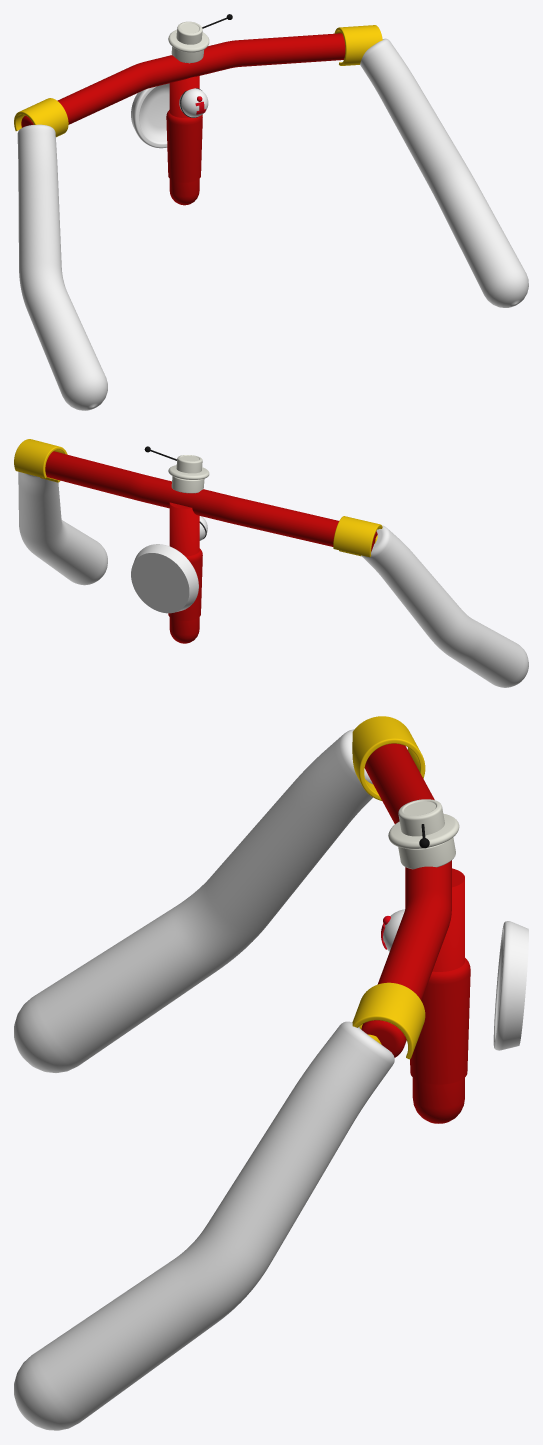
Rendered from bike.glb.
The picture shows the model from 3 angles, top to bottom: view 1: azimuth 30°, elevation 25°; view 2: azimuth 150°, elevation 25°; view 3: azimuth 270°, elevation 25°; orthographic projection. The views are drawn at different scales.
Parts seen in each view (by area): view 1: RightHand sleeve, LeftHand sleeve, Continuous red handlebar, Red stem collar, Headlamp back, Red steering stem, Bell top button, LeftHand curved hand, RightHand curved hand, Information white face; view 2: LeftHand sleeve, Continuous red handlebar, RightHand sleeve, Headlamp back, Red steering stem, LeftHand curved hand, RightHand curved hand, Bell top button, Red stem collar; view 3: RightHand sleeve, LeftHand sleeve, Continuous red handlebar, Red stem collar, Red steering stem, Headlamp back, Bell top button, RightHand curved hand, LeftHand curved hand.
Boxes of the visible parts, <box> form: RightHand sleeve: <box>360,38,528,307</box>; LeftHand sleeve: <box>17,124,107,410</box>; Continuous red handlebar: <box>21,33,345,127</box>; Red stem collar: <box>166,110,202,182</box>; Headlamp back: <box>131,83,169,148</box>; Red steering stem: <box>169,76,199,205</box>; Bell top button: <box>168,21,209,63</box>; LeftHand curved hand: <box>14,98,68,137</box>; RightHand curved hand: <box>334,25,382,65</box>; Information white face: <box>179,88,208,117</box>; LeftHand sleeve: <box>361,525,528,687</box>; Continuous red handlebar: <box>45,451,377,551</box>; RightHand sleeve: <box>18,471,107,585</box>; Headlamp back: <box>131,544,198,613</box>; Red steering stem: <box>169,502,199,643</box>; LeftHand curved hand: <box>333,516,382,557</box>; RightHand curved hand: <box>14,439,67,482</box>; Bell top button: <box>168,455,209,493</box>; Red stem collar: <box>168,548,202,620</box>; RightHand sleeve: <box>14,1021,394,1430</box>; LeftHand sleeve: <box>14,729,372,1072</box>; Continuous red handlebar: <box>361,743,451,1057</box>; Red stem collar: <box>410,958,470,1084</box>; Red steering stem: <box>412,868,464,1123</box>; Headlamp back: <box>493,921,528,1050</box>; Bell top button: <box>388,799,459,869</box>; RightHand curved hand: <box>352,982,425,1059</box>; LeftHand curved hand: <box>352,716,425,800</box>.
Size of the model in its own units: 2.24 by 1.18 by 1.24.
